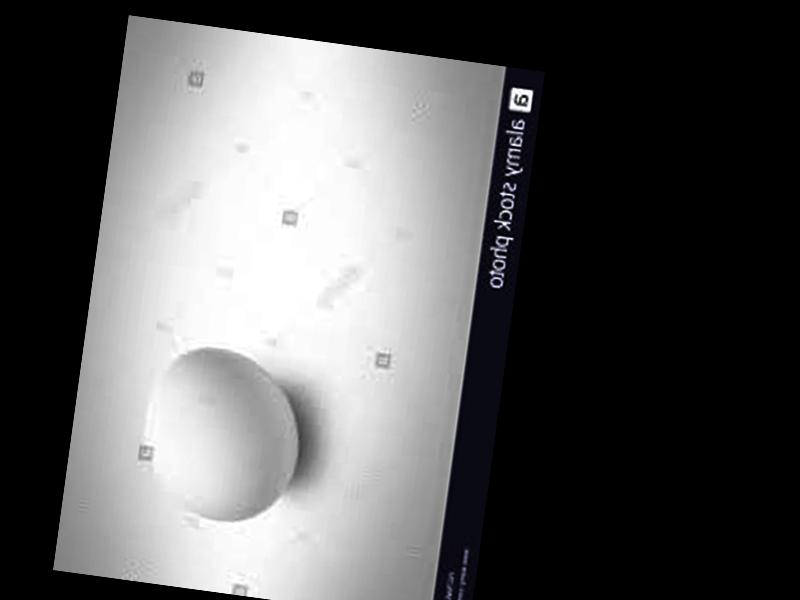Eggs: (135, 342, 311, 532)
